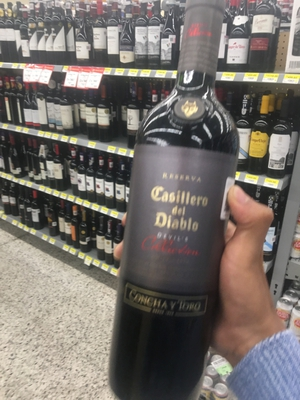casillero del diablo devils collection rojo: (105, 6, 242, 400)
